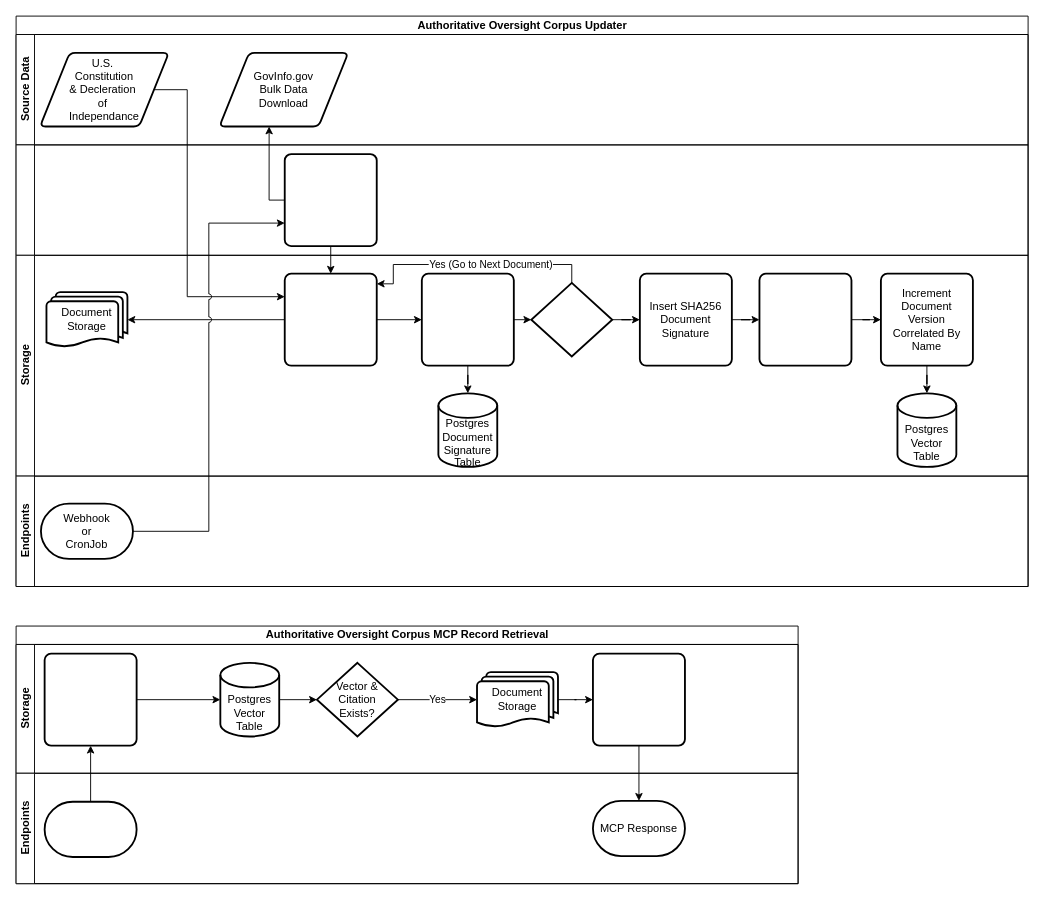
This 1044x900 diagram has some shape labels left out. Here are the shapes that lost their labels. From the top down, the box of each, then its label:
(283, 153, 377, 247): Bulk Downloader
(15, 144, 1028, 255): Scrapers
(283, 272, 377, 366): Corpus Updater Per Document
(420, 272, 514, 366): Query Database for Document SHA256 Signature
(530, 282, 613, 357): SHA256 Signature Matches?
(758, 272, 852, 366): Document Sentance Deconstruction
(43, 652, 137, 746): Corpus Retreival
(592, 652, 685, 746): Citation & Full Context Aggregation
(43, 800, 137, 857): MCP Server & Tools
